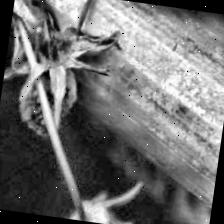Gray Mold: (0, 0, 129, 146)
